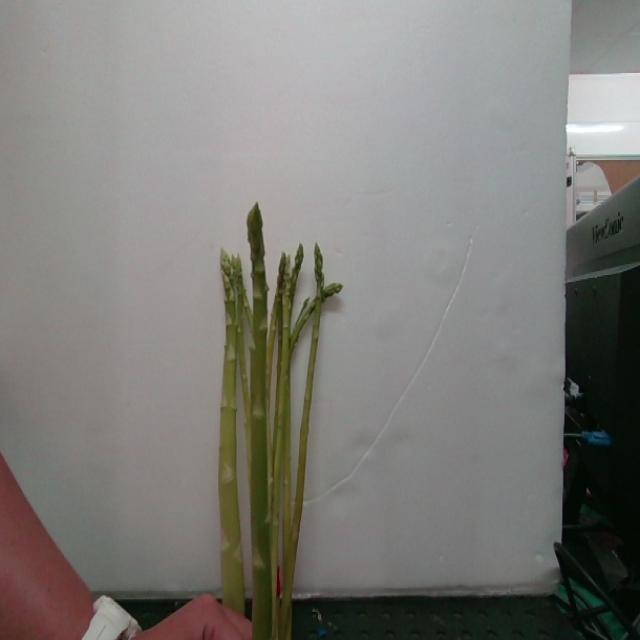aspargus: (218, 216, 343, 640)
